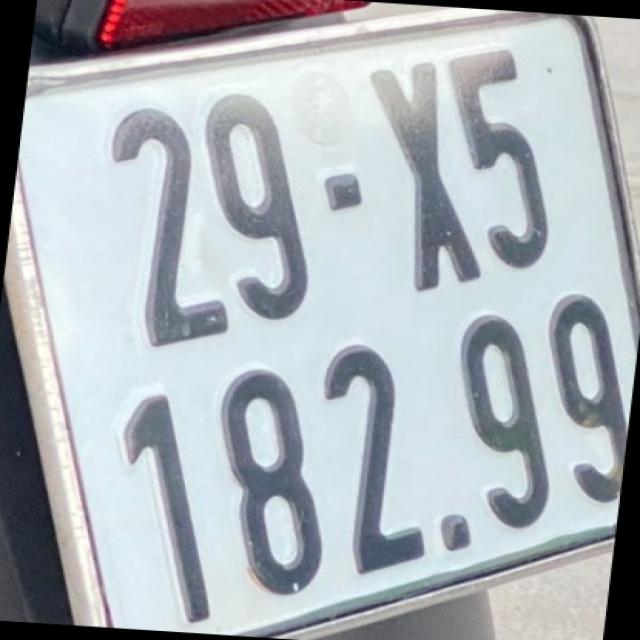1: (111, 380, 216, 625)
2: (101, 103, 232, 347), (323, 338, 434, 570)
5: (448, 37, 564, 268)
9: (208, 94, 315, 329), (458, 313, 554, 533), (552, 296, 626, 510)
B: (216, 365, 328, 601)
X: (364, 63, 476, 293)
